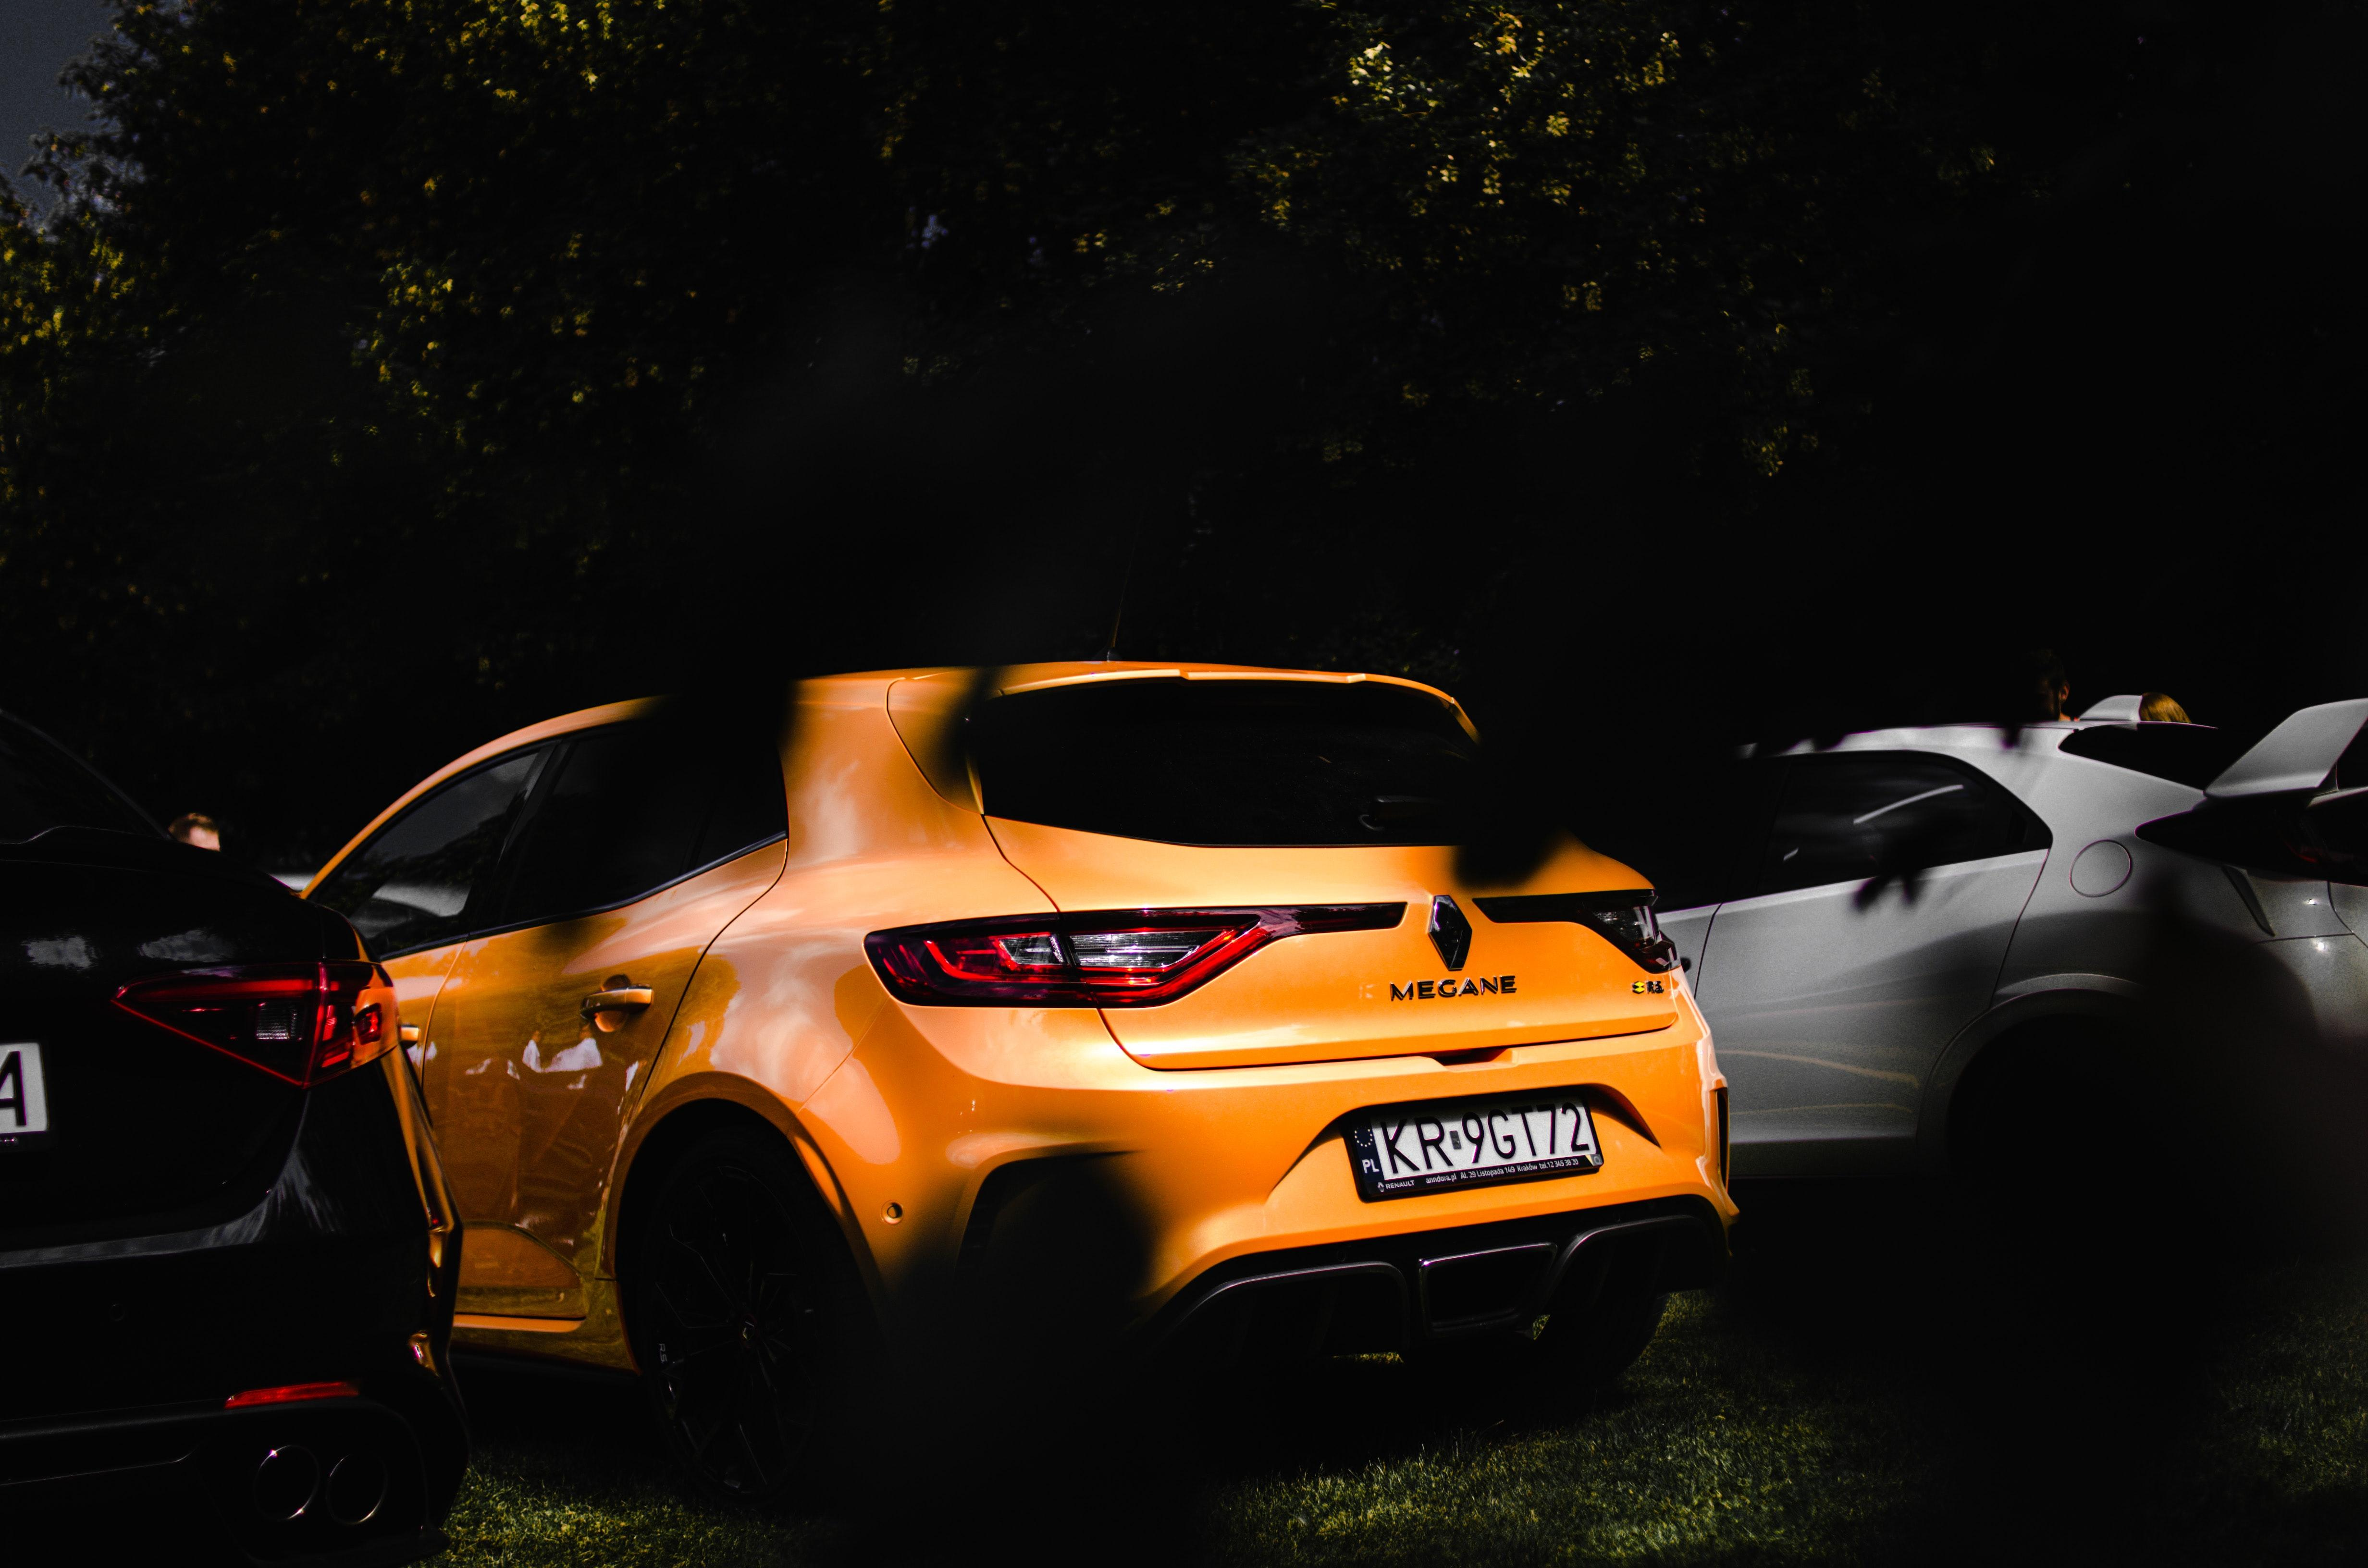Renault: (1407, 866, 1496, 990)
